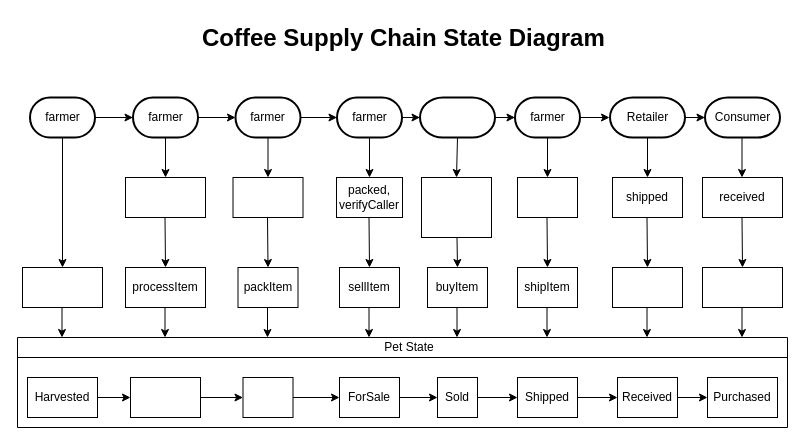
Some shapes in this 806 by 446 pixel diagram are drawn without their labels. Here are the shapes that lost their labels. From the top down, the centre of each, then its label:
the point at 457,117: Distributor
the point at 165,197: harvested, verifyCaller
the point at 267,197: processed, verifyCaller
the point at 456,207: forSale, paidEnough verifyCaller
the point at 547,197: sold, verifyCaller
the point at 62,287: harvestItem
the point at 647,287: receiveItem
the point at 742,287: purchaseItem
the point at 165,397: Processed
the point at 267,397: Packed
